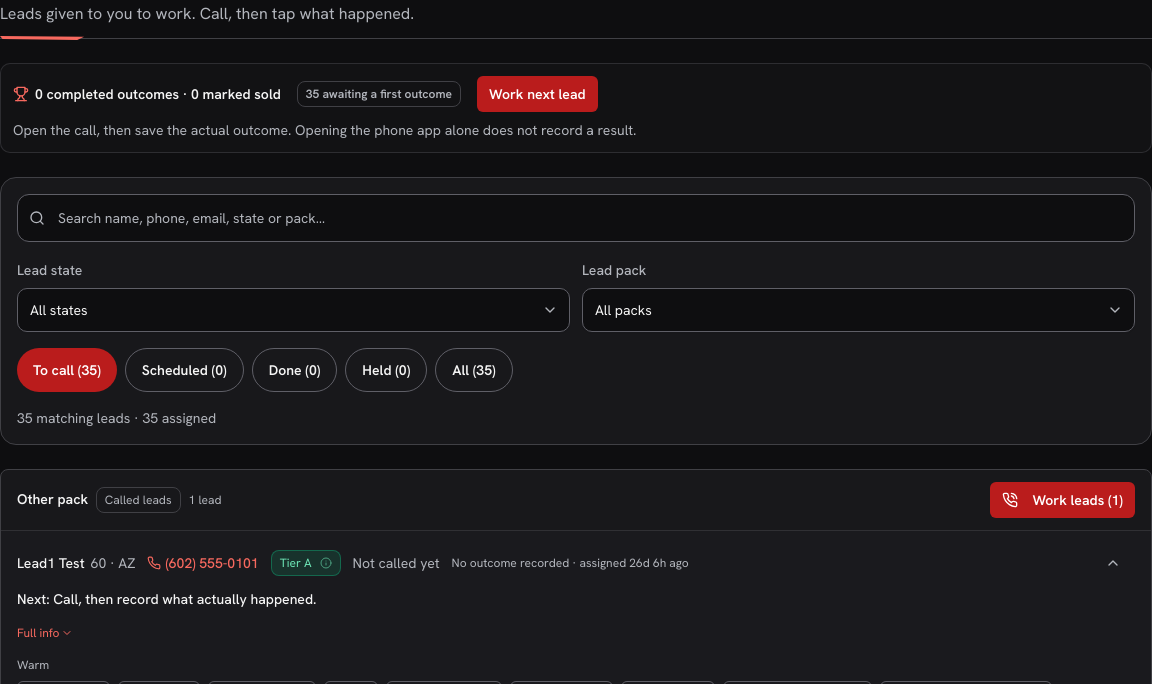
Test case: My Leads work list › Work next lead resets filters and pagination and focuses the actual highest priority candidate
Select "TX" in the dropdown labelled "Lead state": {"x": 294, "y": 310} top-left (17, 288), bottom-right (570, 332)
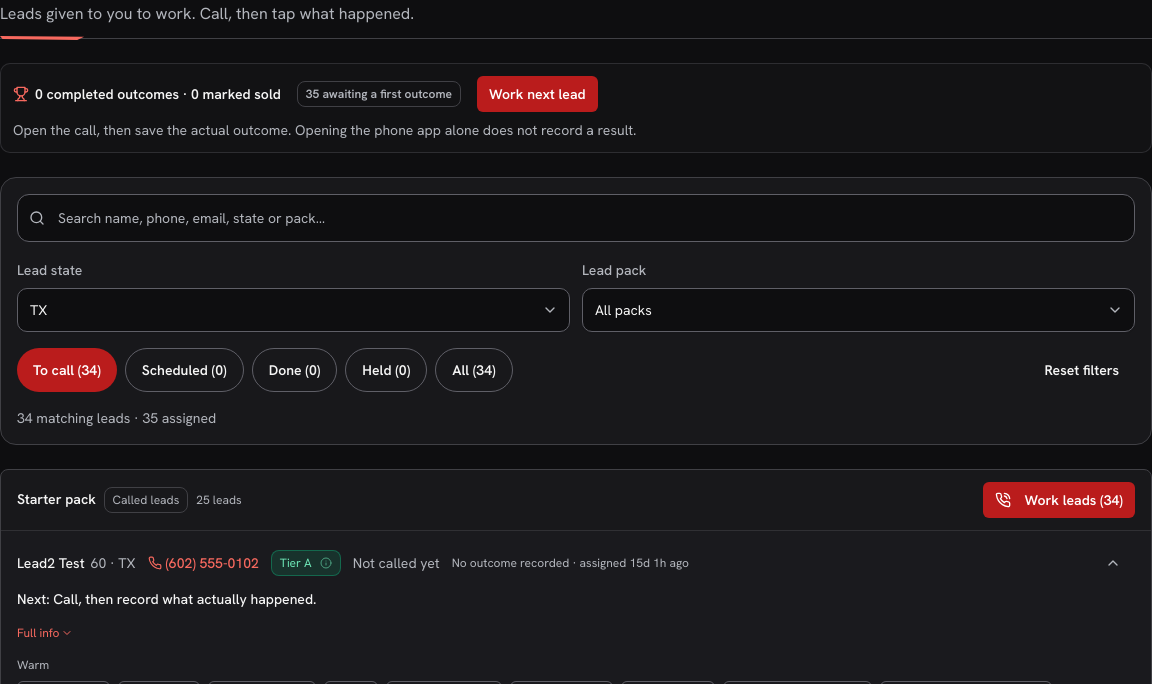
Select "Starter pack" in the dropdown labelled "Lead pack": {"x": 858, "y": 310} top-left (582, 288), bottom-right (1135, 332)
(page scrolled)
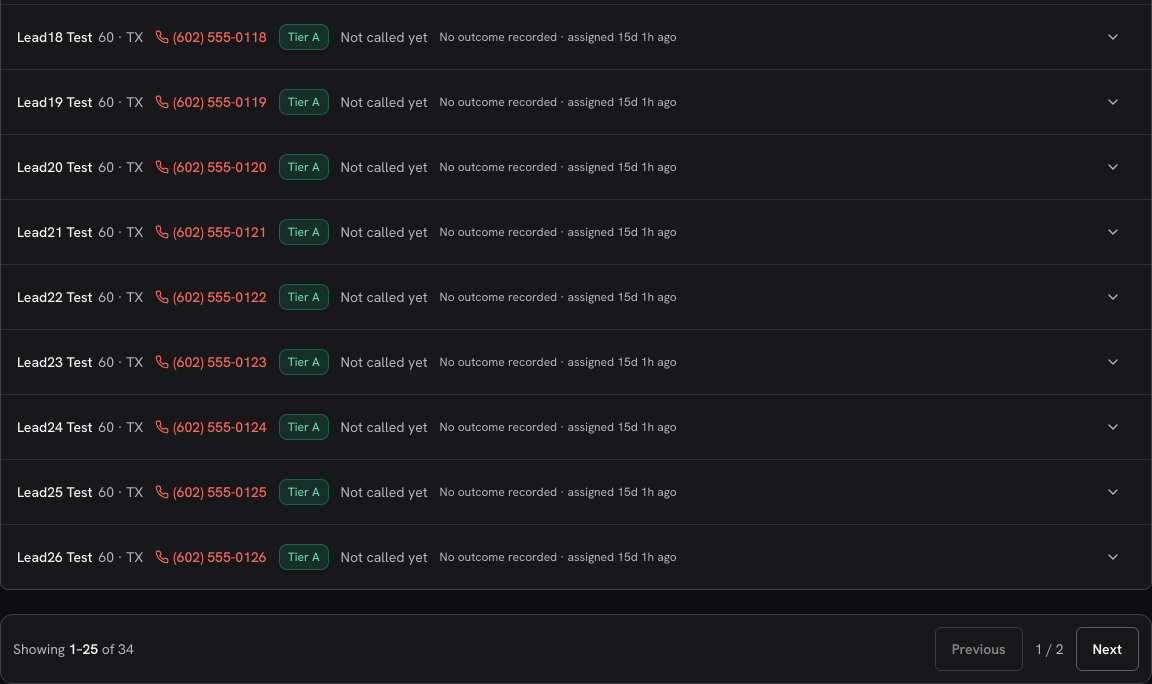
Click the button with aria-label "Next assigned leads page": {"x": 1107, "y": 649} top-left (1076, 627), bottom-right (1139, 671)
(page scrolled)
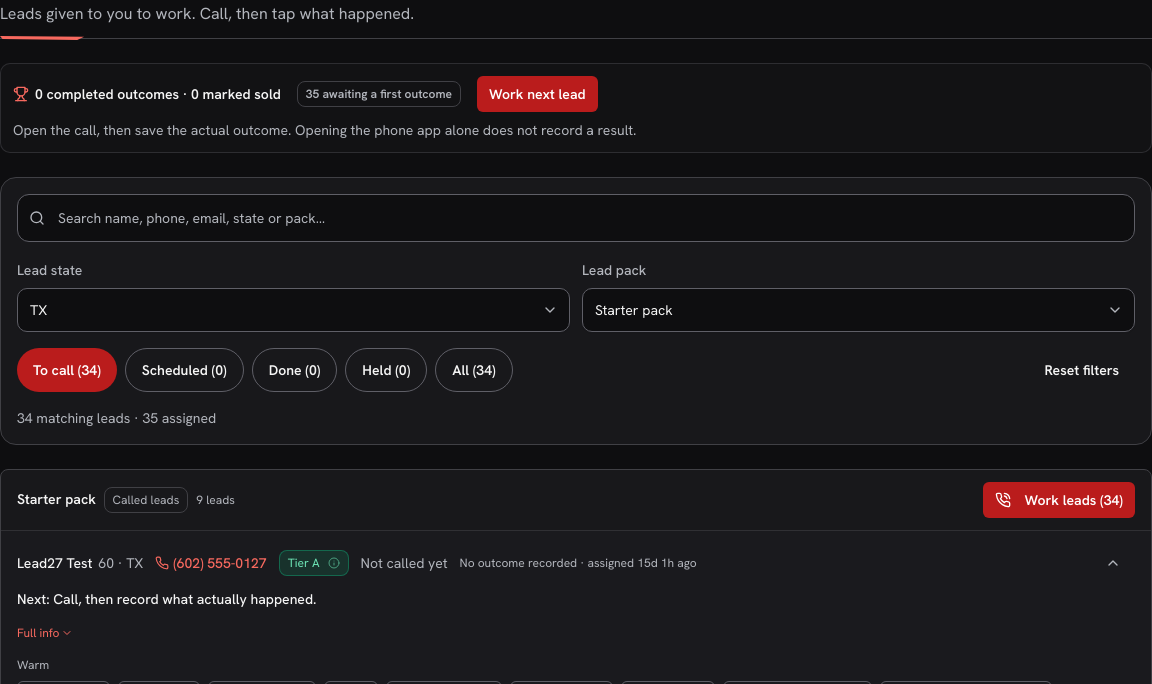
Click the button "Work next lead": {"x": 537, "y": 94} top-left (477, 76), bottom-right (598, 112)
(page scrolled)
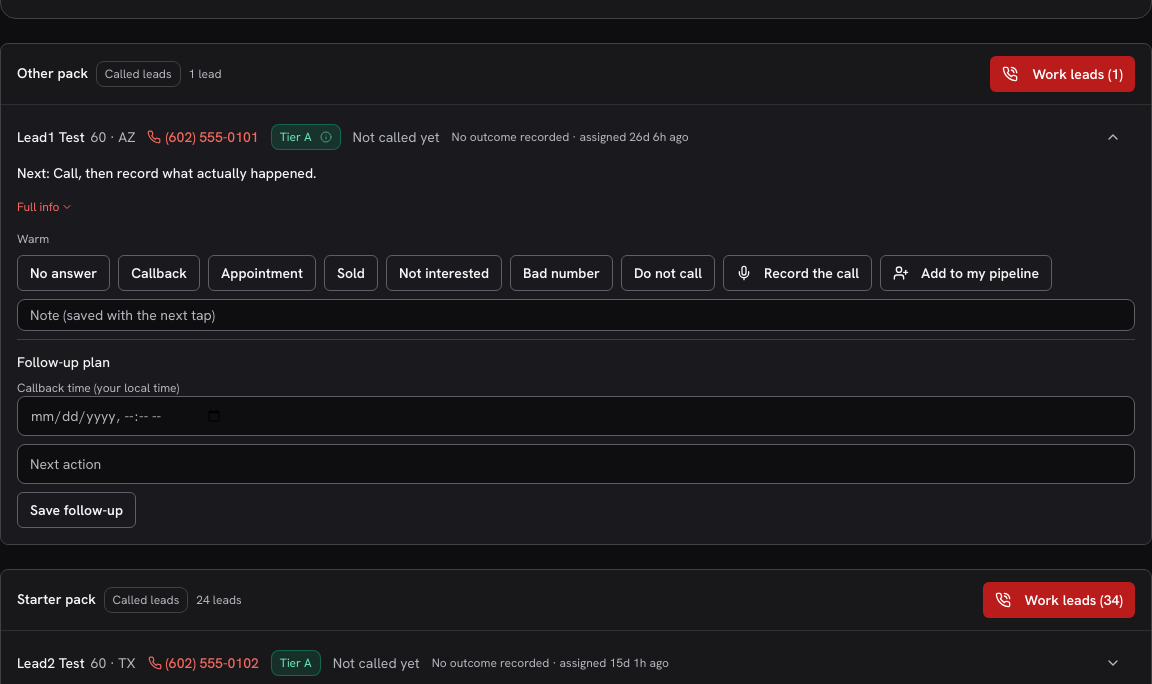
Result: the list item with test id "lead-row" shows "Lead1" at top-left (17, 128), bottom-right (85, 146)
